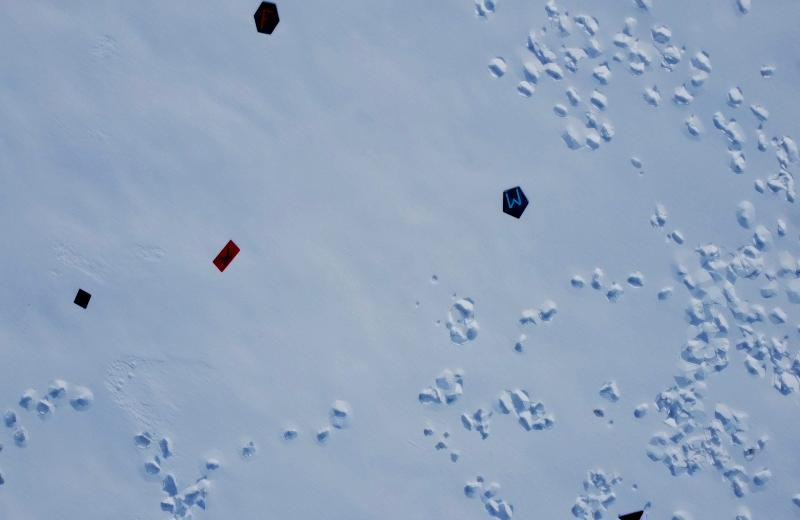Hexagon: (251, 0, 283, 39)
Pentagon: (497, 183, 531, 221)
Rectangle: (211, 237, 241, 273)
Square: (74, 286, 94, 311)
